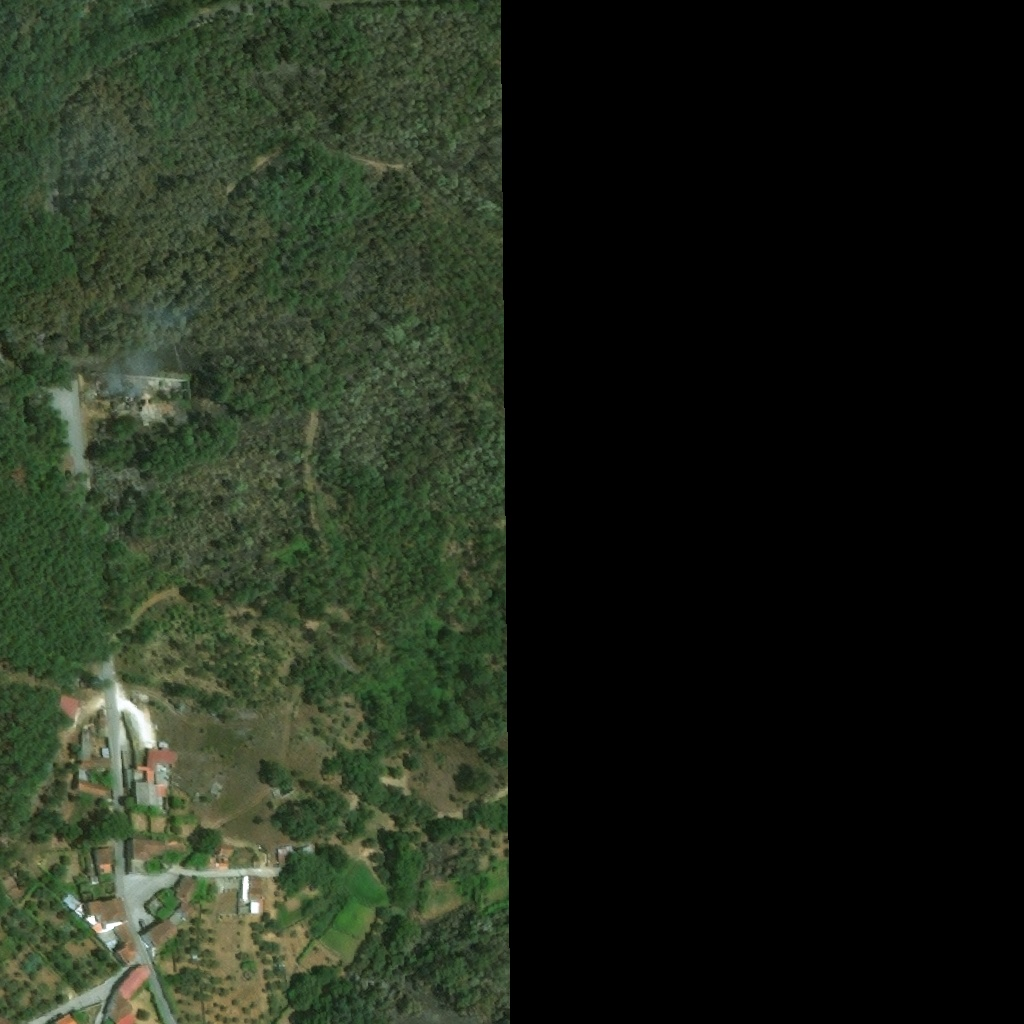0 no-damage: (104, 963, 152, 1023), (136, 750, 178, 810), (87, 897, 129, 929), (126, 839, 182, 862), (172, 874, 200, 918), (140, 916, 178, 948), (114, 921, 138, 963), (278, 842, 319, 866), (242, 876, 264, 916), (54, 693, 81, 724), (91, 845, 113, 873), (77, 782, 111, 799), (96, 928, 122, 949), (79, 757, 113, 769), (60, 893, 81, 912), (81, 730, 93, 758), (207, 857, 230, 870), (126, 861, 148, 874), (54, 1013, 78, 1023), (168, 912, 183, 927), (78, 769, 91, 783), (130, 771, 147, 780), (219, 844, 234, 854), (94, 672, 105, 685), (102, 747, 112, 757), (190, 953, 198, 960)
4 un-classified: (254, 860, 260, 868)
